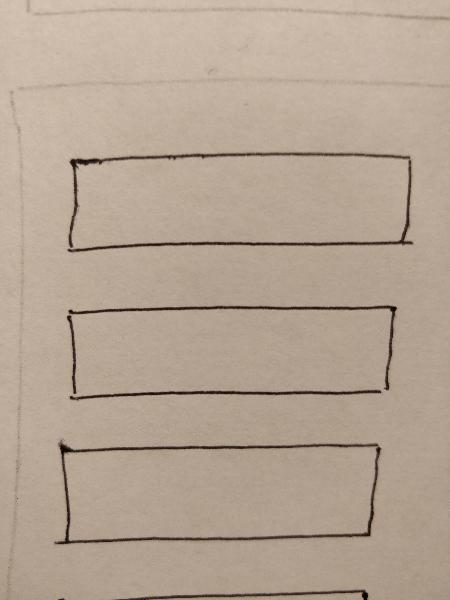text_input: (49, 429, 387, 553), (57, 146, 426, 257), (53, 299, 407, 405)
